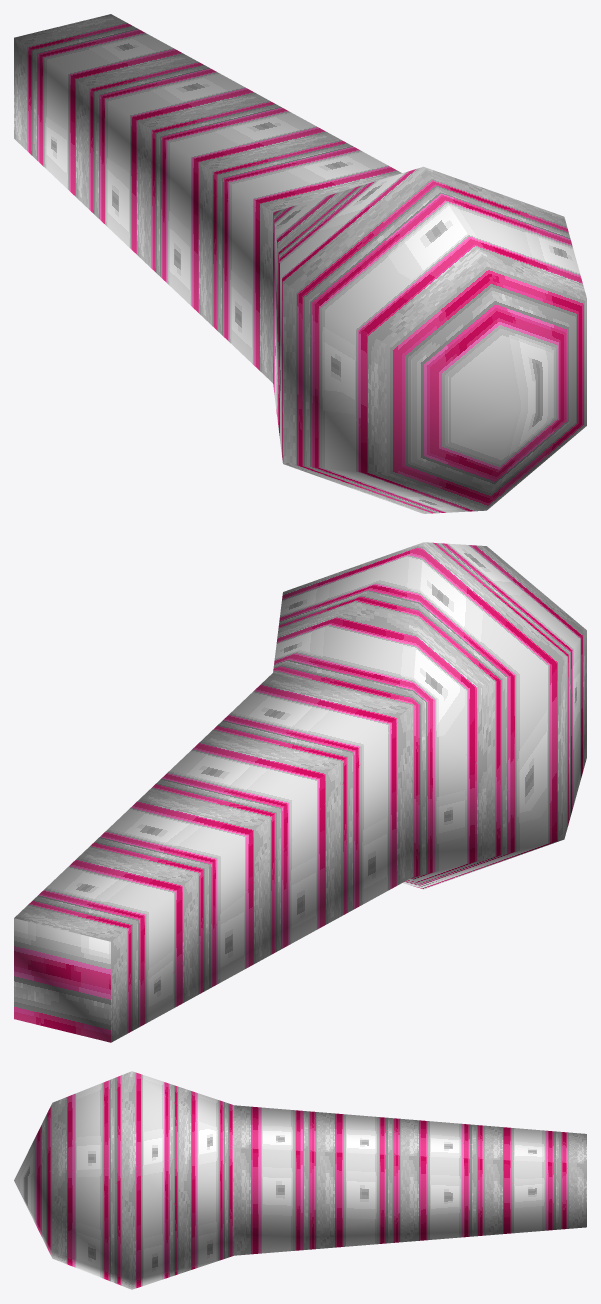
Rendered from 2794mike.gltf.
3 renders of one model, top to bottom at view 1: azimuth 30°, elevation 25°; view 2: azimuth 150°, elevation 25°; view 3: azimuth 270°, elevation 25°, orthographic. The views are drawn at different scales.
Parts seen in each view (by area): view 1: 2794mike; view 2: 2794mike; view 3: 2794mike.
Part boxes in pixels (x1,y1,x2,y2): 2794mike: (14, 14, 586, 513); 2794mike: (14, 542, 586, 1042); 2794mike: (14, 1071, 586, 1289).
Bounding box in the file's own units: 0.1677 × 0.1978 × 0.4695.
Materials: 1 (1 with a texture image).
